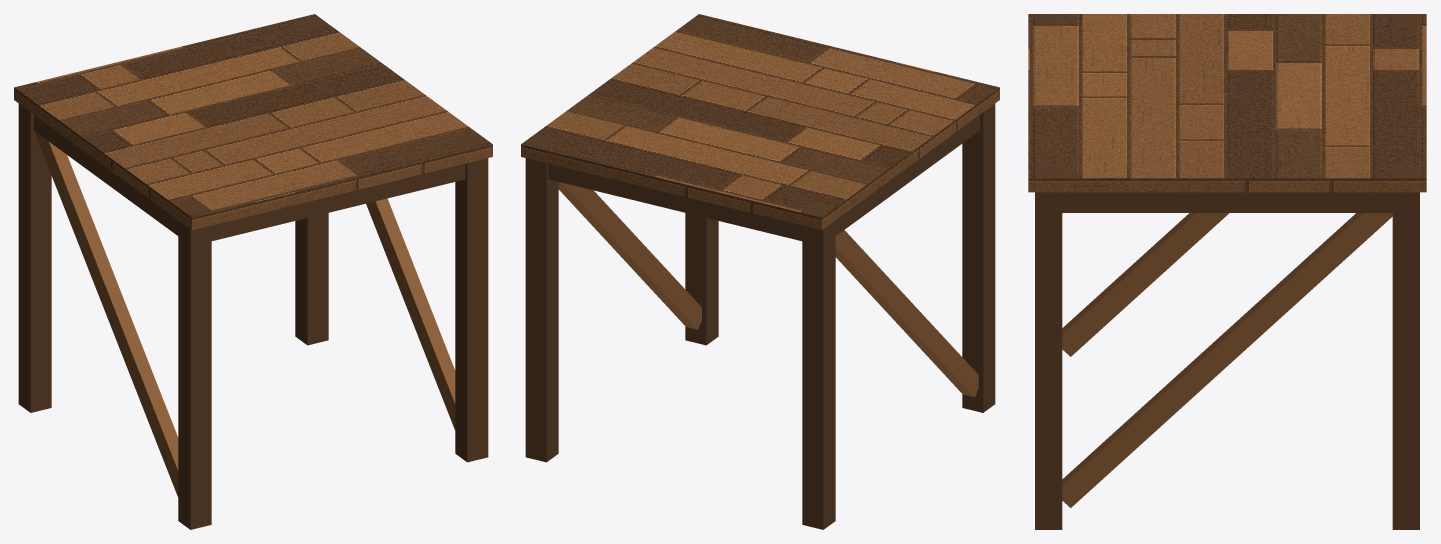
Rendered from mine_scaffold.glb.
The picture shows the model from 3 angles, left to right: view 1: azimuth 30°, elevation 25°; view 2: azimuth 150°, elevation 25°; view 3: azimuth 270°, elevation 25°; orthographic projection. The views are drawn at different scales.
Visible parts, largest first — view 1: mine_scaffold; view 2: mine_scaffold; view 3: mine_scaffold.
Part boxes in pixels (<box>): mine_scaffold: <box>14,14,492,529</box>; mine_scaffold: <box>521,14,999,529</box>; mine_scaffold: <box>1028,14,1426,529</box>.
Size of the model in its own units: 2 by 2 by 2.05.
Materials: 3 (1 with a texture image).
